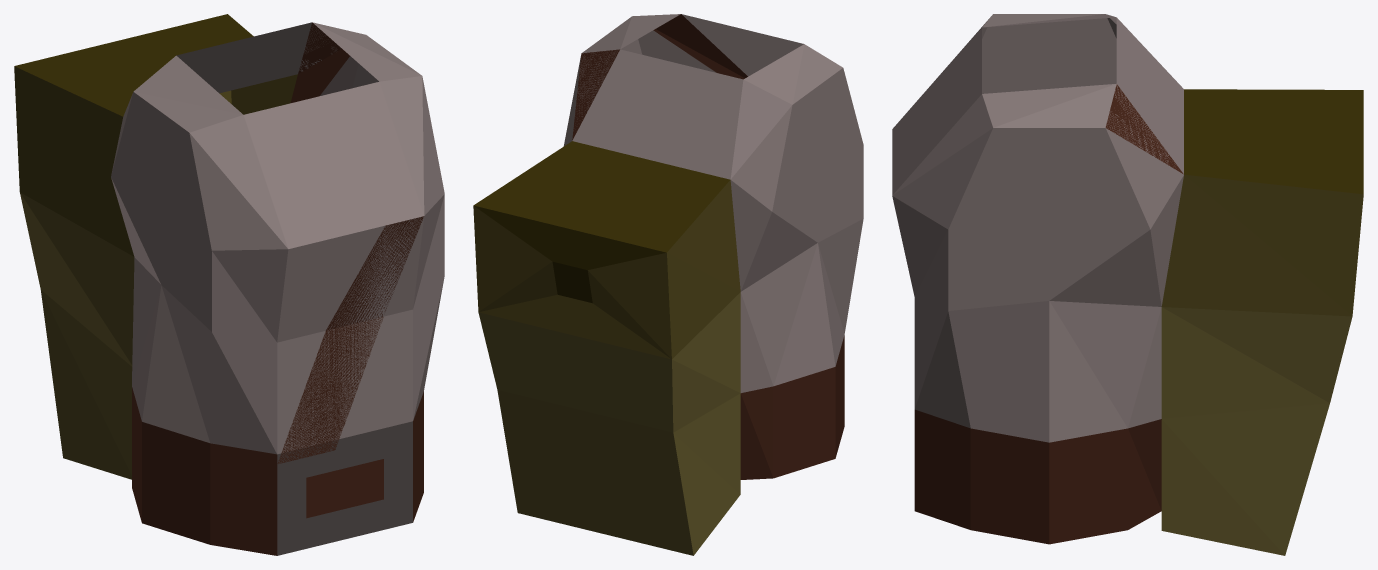
The model's file is model_2984_npc.obj.
3 renders of one model, left to right at view 1: azimuth 30°, elevation 25°; view 2: azimuth 150°, elevation 25°; view 3: azimuth 270°, elevation 25°, orthographic. The views are drawn at different scales.
Visible parts, largest first — view 1: 2984; view 2: 2984; view 3: 2984.
Part boxes in pixels (bbox=[...]): 2984: bbox=[14, 14, 444, 555]; 2984: bbox=[473, 14, 863, 555]; 2984: bbox=[892, 14, 1363, 555].
Size of the model in its own units: 28 by 45 by 42.
